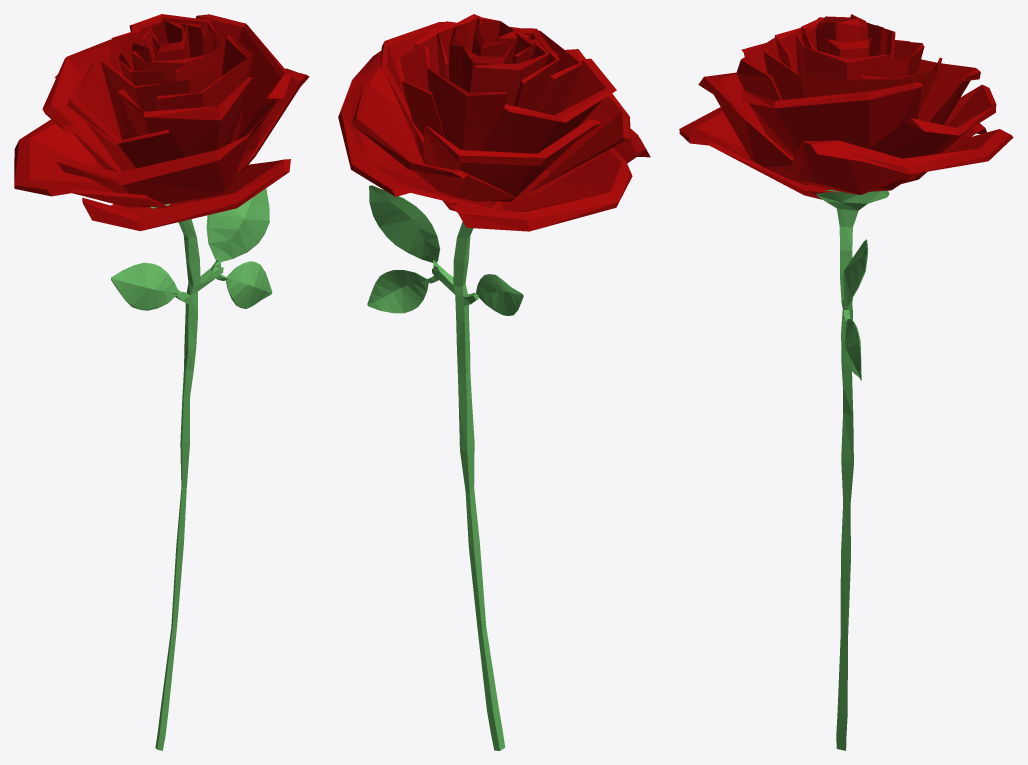
The model's file is longStemRose.fbx.
3 renders of one model, left to right at view 1: azimuth 30°, elevation 25°; view 2: azimuth 150°, elevation 25°; view 3: azimuth 270°, elevation 25°, orthographic. The views are drawn at different scales.
Parts seen in each view (by area): view 1: rose pCube22 rose_bottom; view 2: rose pCube22 rose_bottom; view 3: rose pCube22 rose_bottom.
Part boxes in pixels (<box>): rose pCube22 rose_bottom: <box>14,14,309,750</box>; rose pCube22 rose_bottom: <box>338,14,650,750</box>; rose pCube22 rose_bottom: <box>679,14,1013,750</box>.
Bounding box in the file's own units: 23.35 × 59.56 × 24.41.
